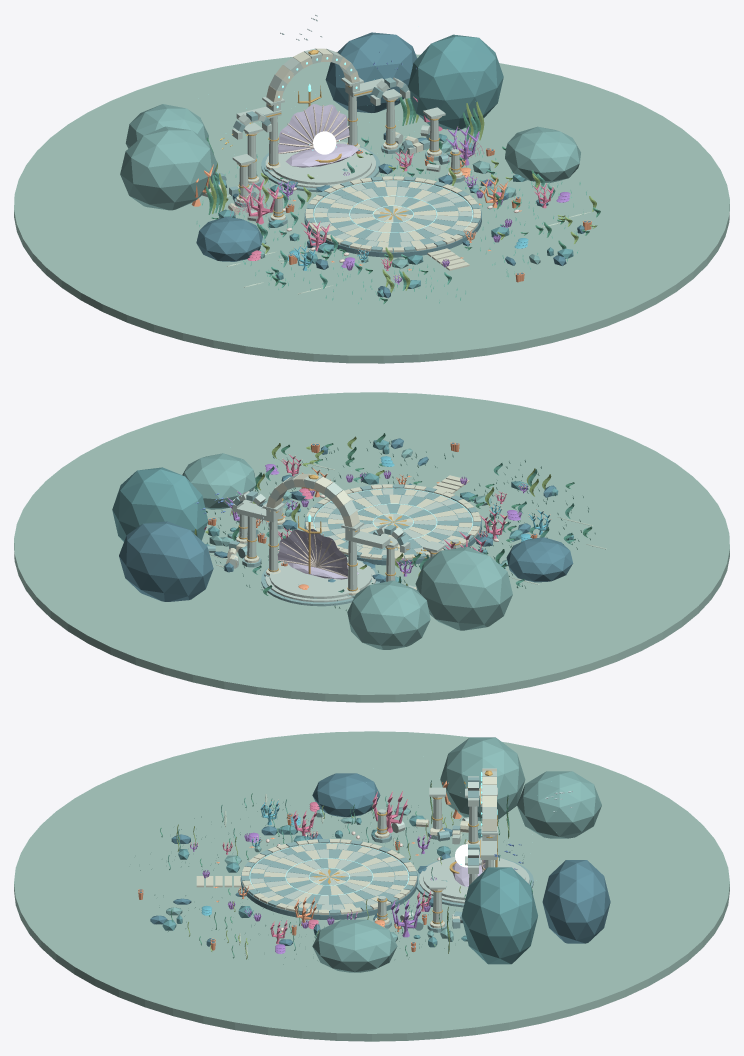
Rendered from underwater-sanctuary.glb.
3 views of the same model, one above another, from view 1: azimuth 30°, elevation 25°; view 2: azimuth 150°, elevation 25°; view 3: azimuth 270°, elevation 25° (orthographic).
Visible parts, largest first — view 1: 01 Battlefield | Ocean | Ocean sand, 04 Reef and rocks | Ocean | Reef light, 02 Sanctuary | Ocean | Pearl limestone, 04 Reef and rocks | Ocean | Reef teal, 04 Reef and rocks | Ocean | Reef slate, 01 Battlefield | Ocean | Ivory limestone, 01 Battlefield | Ocean | Blue limestone, 01 Battlefield | Ocean | Pearl limestone, 03 Sacred shell | Ocean | Shell nacre, 06 Marine gardens | Ocean | Sea grass, 05 Corals | Ocean | Coral rose, 02 Sanctuary | Ocean | Ivory limestone (+8 smaller); view 2: 01 Battlefield | Ocean | Ocean sand, 04 Reef and rocks | Ocean | Reef light, 04 Reef and rocks | Ocean | Reef slate, 02 Sanctuary | Ocean | Pearl limestone, 04 Reef and rocks | Ocean | Reef teal, 01 Battlefield | Ocean | Ivory limestone, 01 Battlefield | Ocean | Blue limestone, 01 Battlefield | Ocean | Pearl limestone, 03 Sacred shell | Ocean | Shell nacre, 02 Sanctuary | Ocean | Ivory limestone, 02 Sanctuary | Ocean | Blue limestone, 06 Marine gardens | Ocean | Sea grass (+7 smaller); view 3: 01 Battlefield | Ocean | Ocean sand, 04 Reef and rocks | Ocean | Reef light, 04 Reef and rocks | Ocean | Reef slate, 04 Reef and rocks | Ocean | Reef teal, 02 Sanctuary | Ocean | Pearl limestone, 01 Battlefield | Ocean | Ivory limestone, 01 Battlefield | Ocean | Blue limestone, 01 Battlefield | Ocean | Pearl limestone, 02 Sanctuary | Ocean | Blue limestone, 05 Corals | Ocean | Coral rose, 05 Corals | Ocean | Coral purple, 02 Sanctuary | Ocean | Ivory limestone (+6 smaller).
Boxes of the visible parts, x1=… form: 01 Battlefield | Ocean | Ocean sand: x1=14, y1=54, x2=729, y2=363; 04 Reef and rocks | Ocean | Reef light: x1=120, y1=104, x2=580, y2=268; 02 Sanctuary | Ocean | Pearl limestone: x1=202, y1=48, x2=460, y2=221; 04 Reef and rocks | Ocean | Reef teal: x1=218, y1=34, x2=573, y2=297; 04 Reef and rocks | Ocean | Reef slate: x1=196, y1=32, x2=584, y2=298; 01 Battlefield | Ocean | Ivory limestone: x1=305, y1=176, x2=480, y2=270; 01 Battlefield | Ocean | Blue limestone: x1=306, y1=176, x2=480, y2=251; 01 Battlefield | Ocean | Pearl limestone: x1=314, y1=181, x2=472, y2=247; 03 Sacred shell | Ocean | Shell nacre: x1=278, y1=104, x2=358, y2=167; 06 Marine gardens | Ocean | Sea grass: x1=196, y1=98, x2=593, y2=303; 05 Corals | Ocean | Coral rose: x1=230, y1=97, x2=553, y2=270; 02 Sanctuary | Ocean | Ivory limestone: x1=218, y1=48, x2=462, y2=220; 01 Battlefield | Ocean | Ocean sand: x1=14, y1=392, x2=729, y2=702; 04 Reef and rocks | Ocean | Reef light: x1=182, y1=448, x2=512, y2=649; 04 Reef and rocks | Ocean | Reef slate: x1=119, y1=438, x2=573, y2=601; 02 Sanctuary | Ocean | Pearl limestone: x1=209, y1=474, x2=459, y2=602; 04 Reef and rocks | Ocean | Reef teal: x1=112, y1=439, x2=573, y2=582; 01 Battlefield | Ocean | Ivory limestone: x1=305, y1=475, x2=480, y2=560; 01 Battlefield | Ocean | Blue limestone: x1=305, y1=484, x2=480, y2=560; 01 Battlefield | Ocean | Pearl limestone: x1=314, y1=489, x2=470, y2=555; 03 Sacred shell | Ocean | Shell nacre: x1=277, y1=529, x2=358, y2=579; 02 Sanctuary | Ocean | Ivory limestone: x1=226, y1=473, x2=441, y2=595; 02 Sanctuary | Ocean | Blue limestone: x1=207, y1=491, x2=409, y2=606; 06 Marine gardens | Ocean | Sea grass: x1=207, y1=440, x2=595, y2=610; 01 Battlefield | Ocean | Ocean sand: x1=14, y1=731, x2=729, y2=1041; 04 Reef and rocks | Ocean | Reef light: x1=166, y1=737, x2=601, y2=972; 04 Reef and rocks | Ocean | Reef slate: x1=150, y1=773, x2=610, y2=946; 04 Reef and rocks | Ocean | Reef teal: x1=162, y1=805, x2=537, y2=964; 02 Sanctuary | Ocean | Pearl limestone: x1=377, y1=768, x2=529, y2=924; 01 Battlefield | Ocean | Ivory limestone: x1=196, y1=838, x2=417, y2=914; 01 Battlefield | Ocean | Blue limestone: x1=241, y1=838, x2=416, y2=914; 01 Battlefield | Ocean | Pearl limestone: x1=250, y1=844, x2=408, y2=910; 02 Sanctuary | Ocean | Blue limestone: x1=372, y1=777, x2=533, y2=932; 05 Corals | Ocean | Coral rose: x1=222, y1=791, x2=431, y2=943; 05 Corals | Ocean | Coral purple: x1=190, y1=832, x2=436, y2=953; 02 Sanctuary | Ocean | Ivory limestone: x1=374, y1=769, x2=496, y2=928.
Bounding box in the file's own units: 84 × 15.47 × 84.
